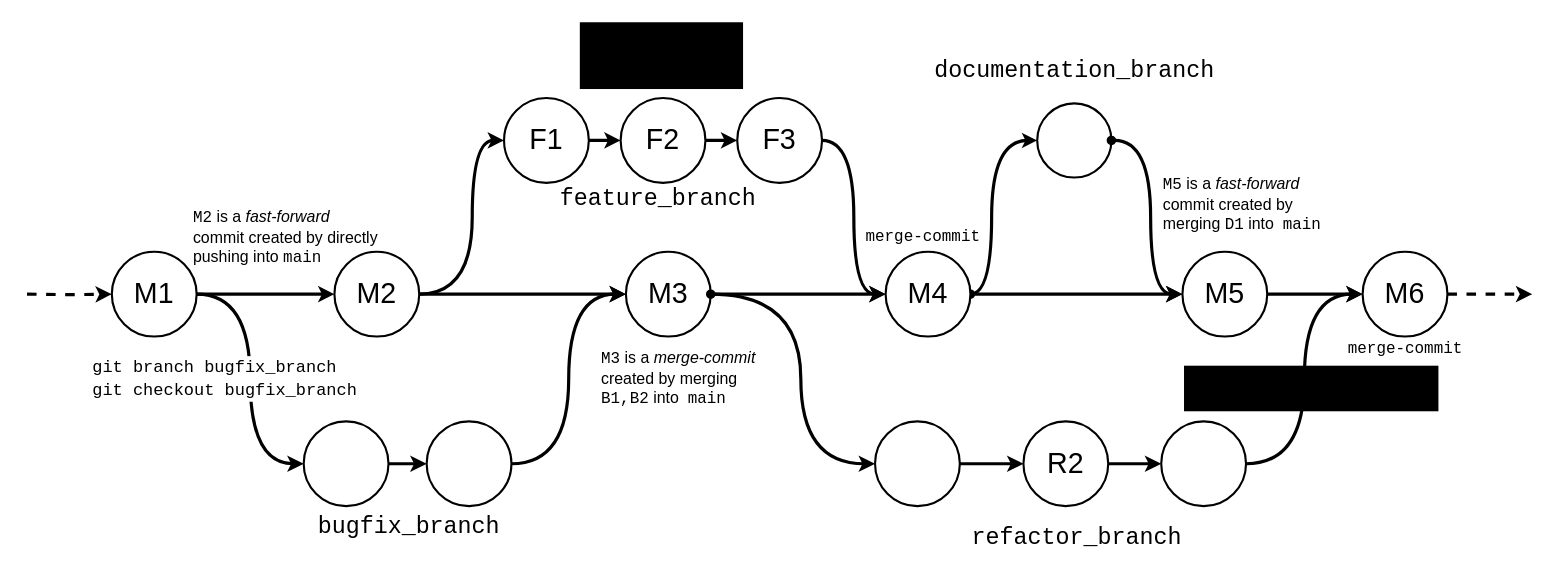
This 1560x577 diagram has some shape labels left out. The centre of each missing label's shape, as x and y in pixels:
"B1" goes at [345,463].
"B2" goes at [468,463].
"D1" goes at [1074,140].
"R1" goes at [916,463].
"R3" goes at [1203,463].
